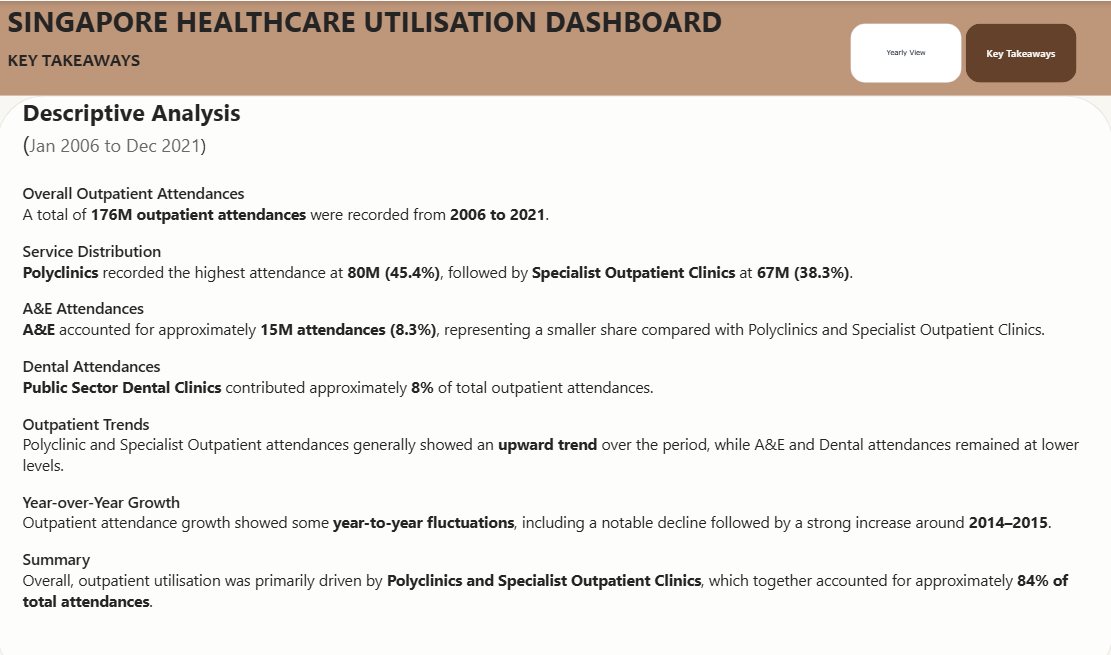

What the dashboard file says about the page in this screenshot:
{"tool":"powerbi","page":{"name":"Key Takeaways","canvas":[2300,1400],"ordinal":1},"visuals":[{"type":"shape","box":[0,194.8,2301.1,1206.2],"z":0},{"type":"shape","box":[0,0,2300,195],"z":1000},{"type":"textbox","box":[22,98,365,49.5],"z":2000},{"type":"textbox","box":[21.6,0,1496.7,93.3],"z":3000},{"type":"textbox","box":[163.9,646.4,300,300],"z":4000},{"type":"textbox","box":[52.6,194.8,634.6,142.3],"z":5000},{"type":"textbox","box":[52.6,374.2,2195.9,909.3],"z":5001},{"type":"pageNavigator","box":[1759.4,46.9,466,122],"z":5002}]}

Visuals, with their boxes on the page's 2300x1400 design canvas (x1, y1, x2, y2). These are canvas units, not pixel positions in the 1111x655 screenshot, which may show the page scaled, cropped or inside an application window:
shape: BBox(0, 195, 2301, 1401)
shape: BBox(0, 0, 2300, 195)
textbox: BBox(22, 98, 387, 148)
textbox: BBox(22, 0, 1518, 93)
textbox: BBox(164, 646, 464, 946)
textbox: BBox(53, 195, 687, 337)
textbox: BBox(53, 374, 2248, 1284)
pageNavigator: BBox(1759, 47, 2225, 169)
